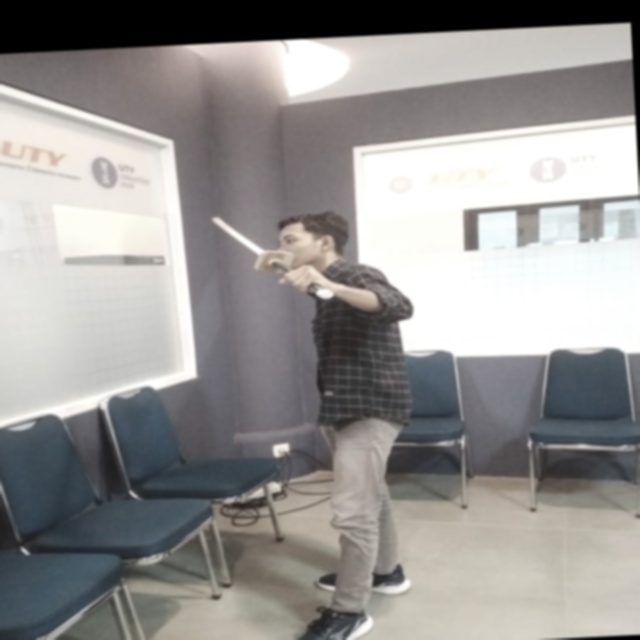Sharp-Object: (197, 201, 341, 318)
